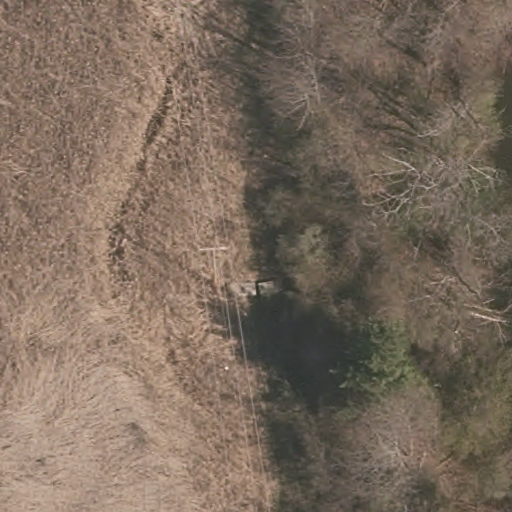DT: (196, 238, 233, 296)
